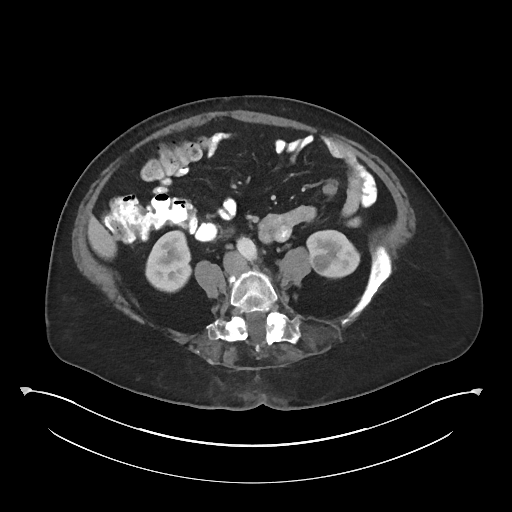Lesion: (308, 251, 335, 275)
